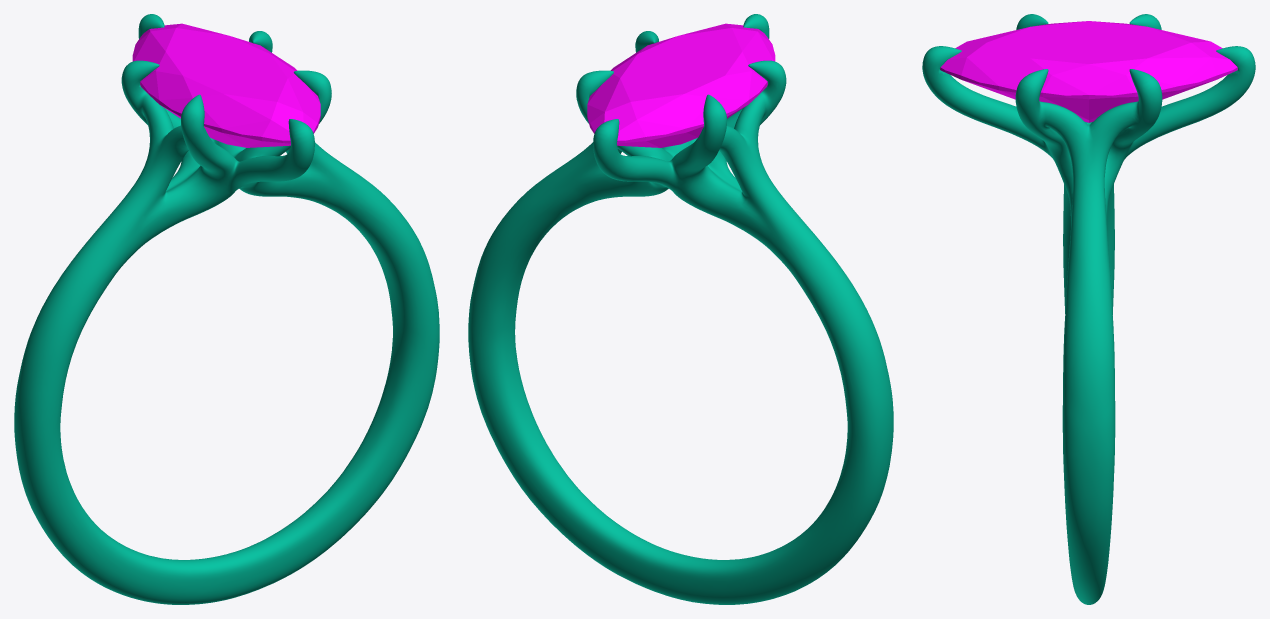
File: BE1829_MQ_200ct_RENDER.glb
The picture shows the model from 3 angles, left to right: view 1: azimuth 30°, elevation 25°; view 2: azimuth 150°, elevation 25°; view 3: azimuth 270°, elevation 25°; orthographic projection.
Parts seen in each view (by area): view 1: Metal 01, CS_Diamond_Marquise; view 2: Metal 01, CS_Diamond_Marquise; view 3: Metal 01, CS_Diamond_Marquise.
Boxes of the visible parts, box(x1,y1,x2,y2) form: Metal 01: box(14, 14, 439, 604); CS_Diamond_Marquise: box(132, 23, 320, 147); Metal 01: box(468, 14, 893, 604); CS_Diamond_Marquise: box(587, 23, 775, 147); Metal 01: box(922, 14, 1255, 604); CS_Diamond_Marquise: box(940, 21, 1237, 122).
Bounding box in the file's own units: 20.05 × 24.59 × 13.76.
